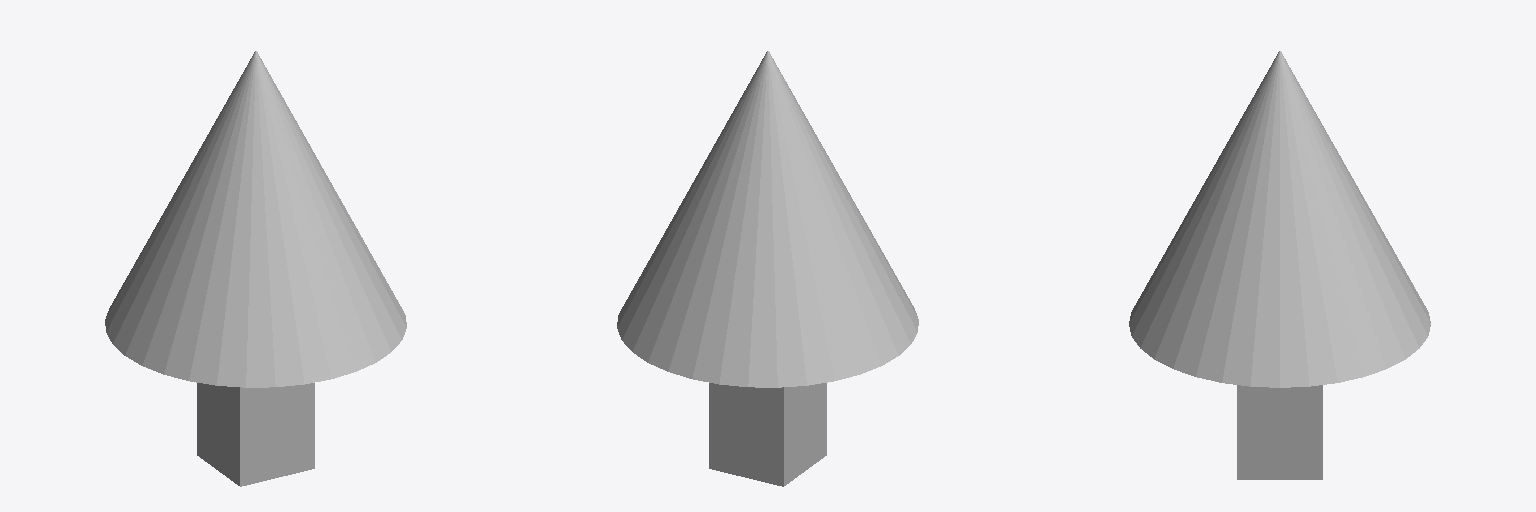
The picture shows the model from 3 angles: view 1: azimuth 30°, elevation 25°; view 2: azimuth 150°, elevation 25°; view 3: azimuth 270°, elevation 25°; orthographic projection.
Parts seen in each view (by area): view 1: 立方体; view 2: 立方体; view 3: 立方体.
Boxes of the visible parts, <box> form: 立方体: <box>105,51,406,486</box>; 立方体: <box>617,51,918,486</box>; 立方体: <box>1129,51,1430,479</box>.
Bounding box in the file's own units: 0.8047 × 1.21 × 0.8047.